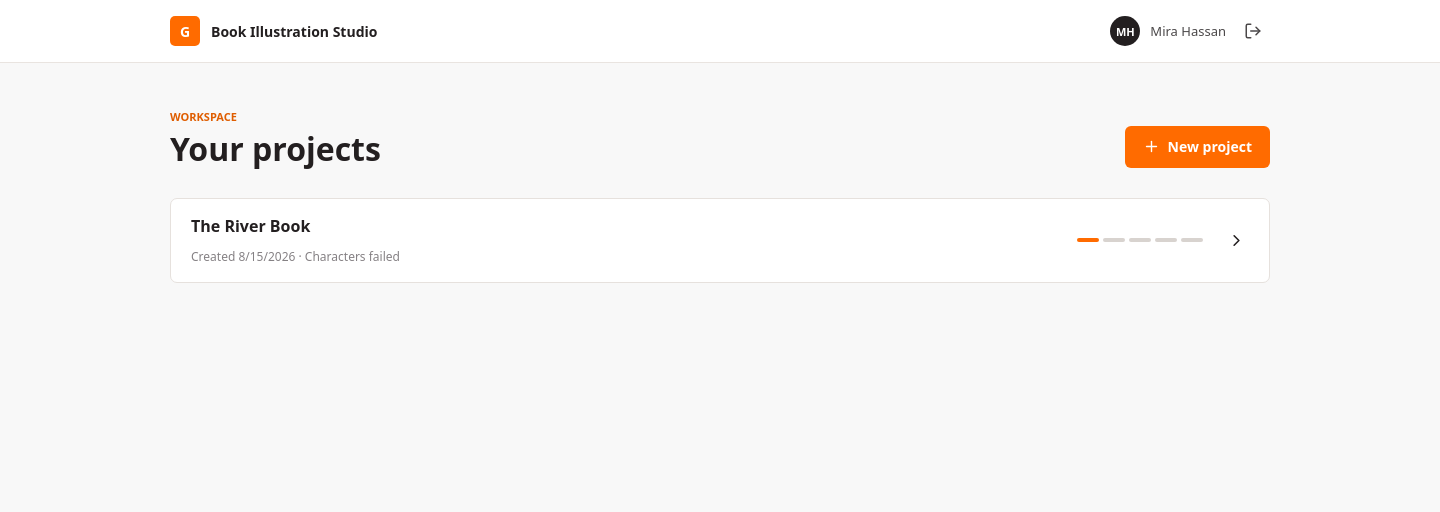
Test: App › shows a failed step and resets only that step for retry
The width and height of the screenshot is (1440, 512).
Click the button "The River Book Created 8/15/2026 · Characters failed". click: (251, 226)
box: [170,198,1270,283]
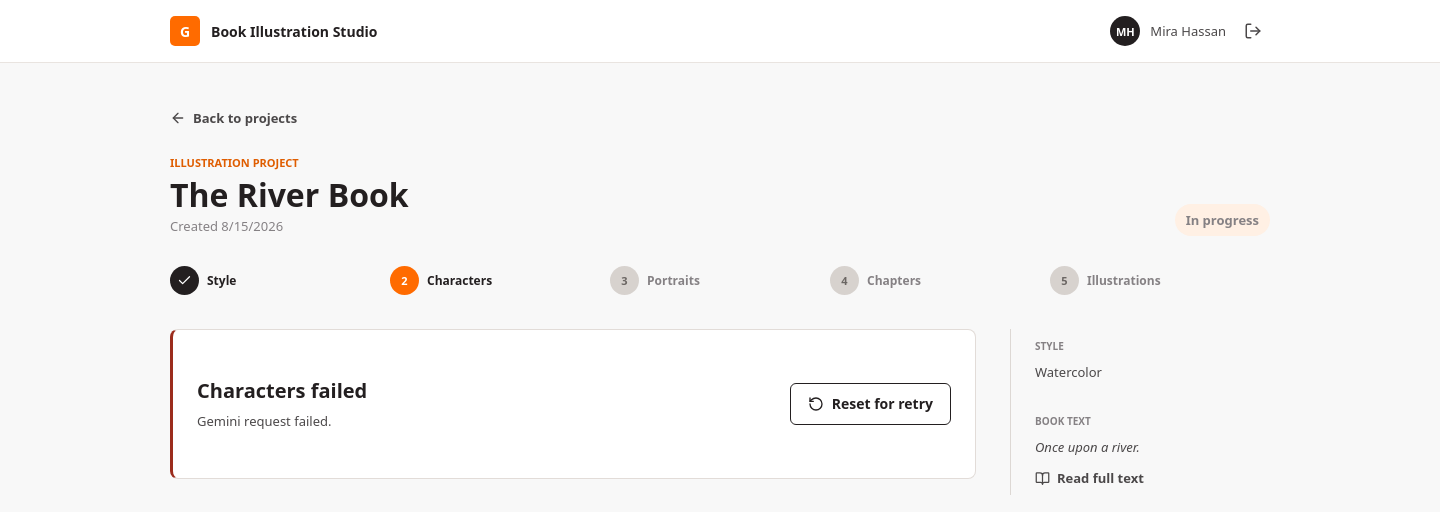
Expected: the heading "Characters failed" is shown, [197,377,367,404]
Expected: the text "Gemini request failed." is shown, [197,412,332,430]
Click the button "Reset for retry". click: (870, 404)
box: [790,383,951,425]
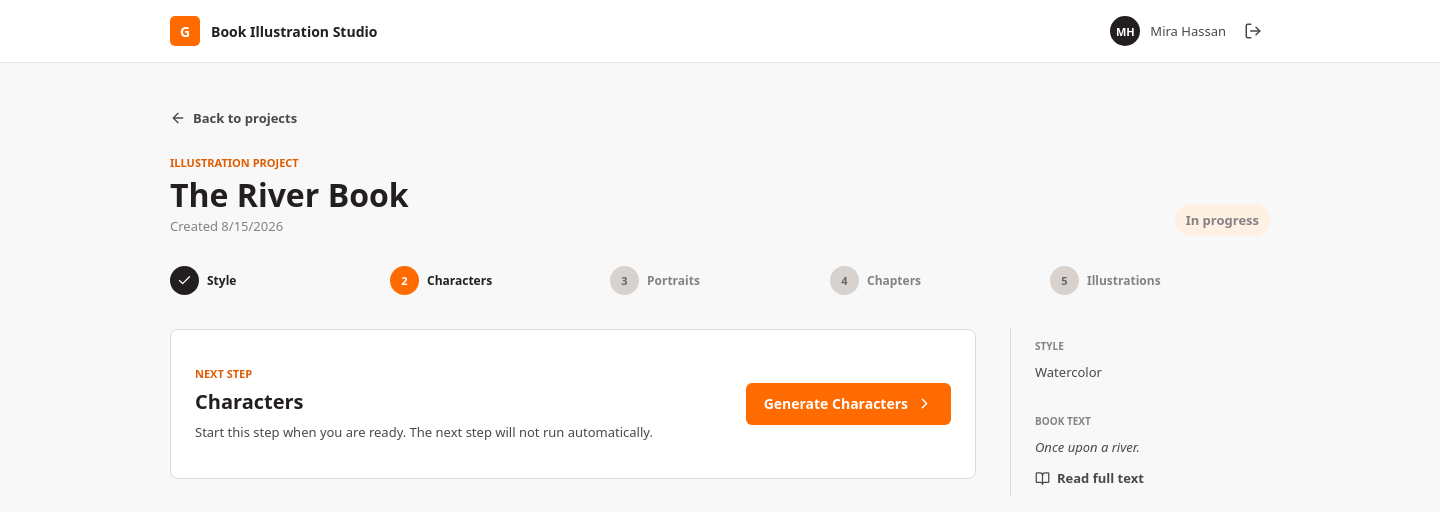
Expected: the button "Generate Characters" is shown, [746,383,951,425]
